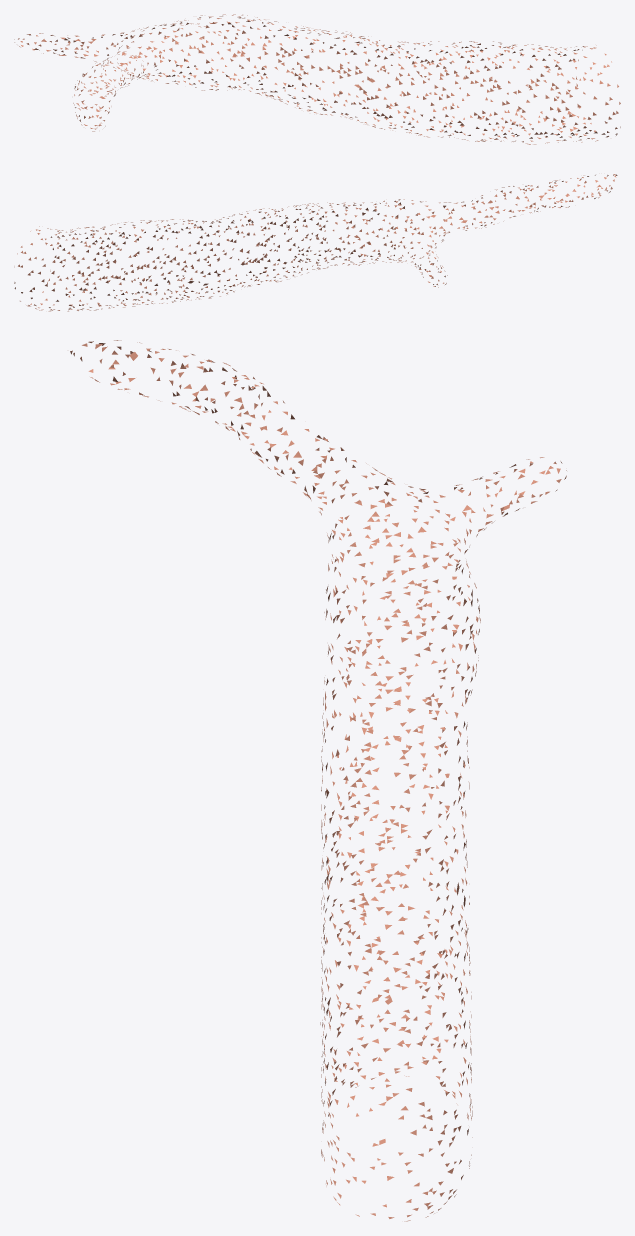
Rendered from morph_003.glb.
3 views of the same model, one above another, from view 1: azimuth 30°, elevation 25°; view 2: azimuth 150°, elevation 25°; view 3: azimuth 270°, elevation 25° (orthographic). The views are drawn at different scales.
Size of the model in its own units: 114 by 42.91 by 48.53.
